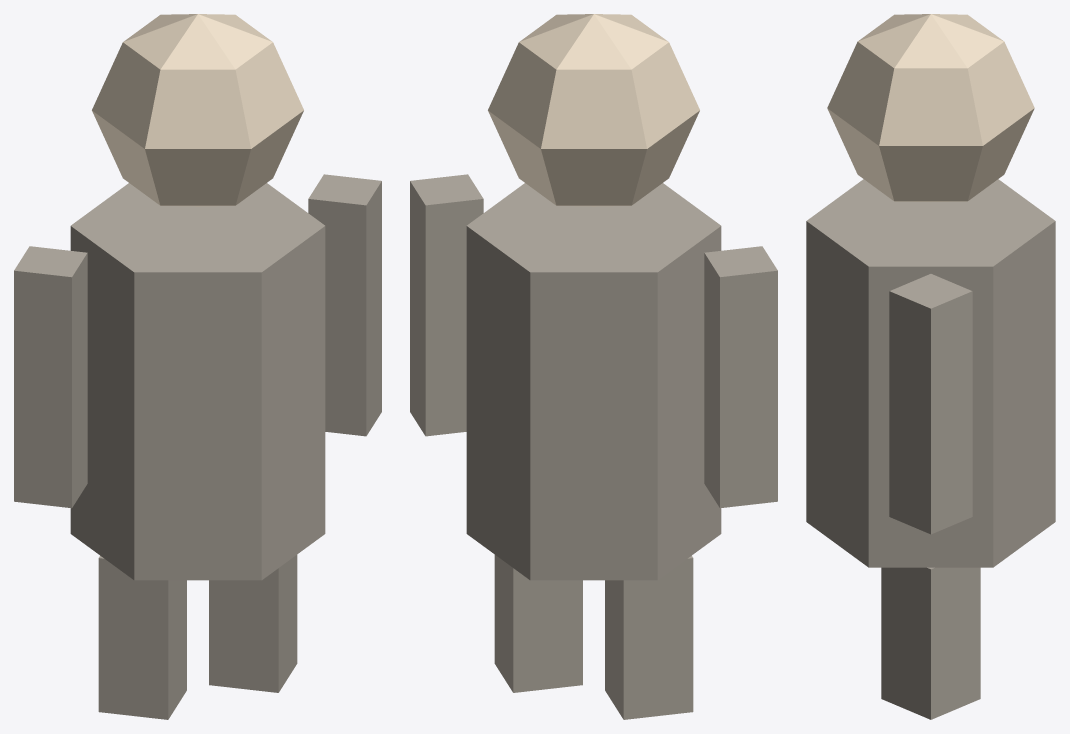
Rendered from charcoal_burner_unit.glb.
The picture shows the model from 3 angles, left to right: view 1: azimuth 30°, elevation 25°; view 2: azimuth 150°, elevation 25°; view 3: azimuth 270°, elevation 25°; orthographic projection. The views are drawn at different scales.
Visible parts, largest first — view 1: charcoal_burner_unit_torso, charcoal_burner_unit_head, charcoal_burner_unit_arm_l, charcoal_burner_unit_arm_r, charcoal_burner_unit_leg_l, charcoal_burner_unit_leg_r; view 2: charcoal_burner_unit_torso, charcoal_burner_unit_head, charcoal_burner_unit_arm_l, charcoal_burner_unit_arm_r, charcoal_burner_unit_leg_l, charcoal_burner_unit_leg_r; view 3: charcoal_burner_unit_torso, charcoal_burner_unit_head, charcoal_burner_unit_arm_r, charcoal_burner_unit_leg_r.
Boxes of the visible parts, box(x1,y1,x2,y2) form: charcoal_burner_unit_torso: box(70, 183, 325, 580); charcoal_burner_unit_head: box(92, 14, 303, 206); charcoal_burner_unit_arm_l: box(14, 246, 87, 508); charcoal_burner_unit_arm_r: box(308, 174, 381, 436); charcoal_burner_unit_leg_l: box(98, 555, 186, 719); charcoal_burner_unit_leg_r: box(209, 555, 297, 692); charcoal_burner_unit_torso: box(466, 183, 721, 580); charcoal_burner_unit_head: box(488, 14, 699, 206); charcoal_burner_unit_arm_l: box(704, 246, 777, 508); charcoal_burner_unit_arm_r: box(410, 174, 483, 436); charcoal_burner_unit_leg_l: box(605, 555, 693, 719); charcoal_burner_unit_leg_r: box(494, 555, 582, 692); charcoal_burner_unit_torso: box(806, 179, 1055, 567); charcoal_burner_unit_head: box(827, 14, 1034, 201); charcoal_burner_unit_arm_r: box(889, 274, 972, 534); charcoal_burner_unit_leg_r: box(881, 567, 980, 719).
Bounding box in the file's own units: 0.375 × 0.6562 × 0.225.
